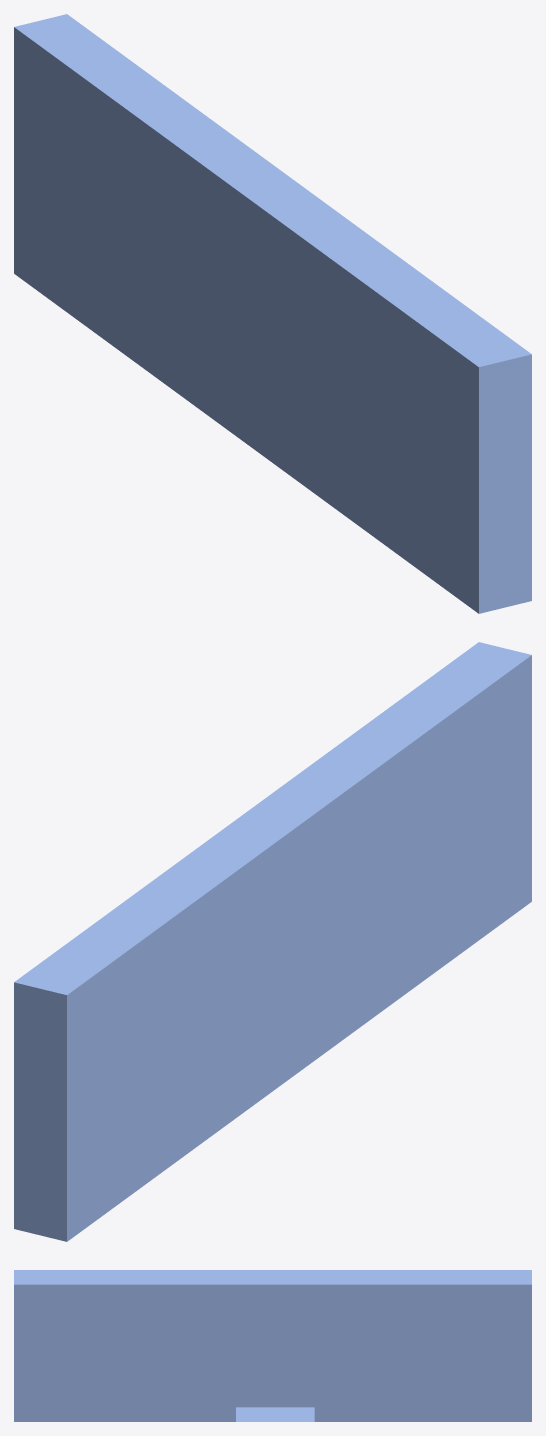
File: Wall1.fbx
3 renders of one model, top to bottom at view 1: azimuth 30°, elevation 25°; view 2: azimuth 150°, elevation 25°; view 3: azimuth 270°, elevation 25°, orthographic. The views are drawn at different scales.
Visible parts, largest first — view 1: Box006; view 2: Box006; view 3: Box006.
Boxes of the visible parts, x1,y1,x2,y2 form: Box006: [14, 14, 531, 613]; Box006: [14, 642, 531, 1241]; Box006: [14, 1270, 531, 1421].
Size of the model in its own units: 0.5632 by 2.5 by 8.54.
